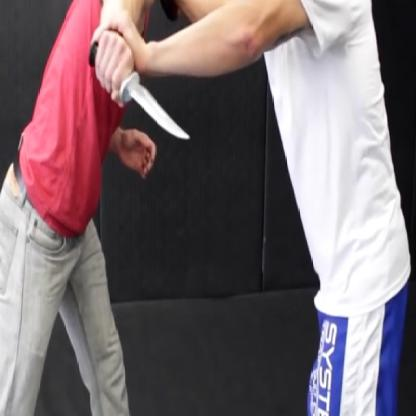knife: (77, 22, 196, 147)
